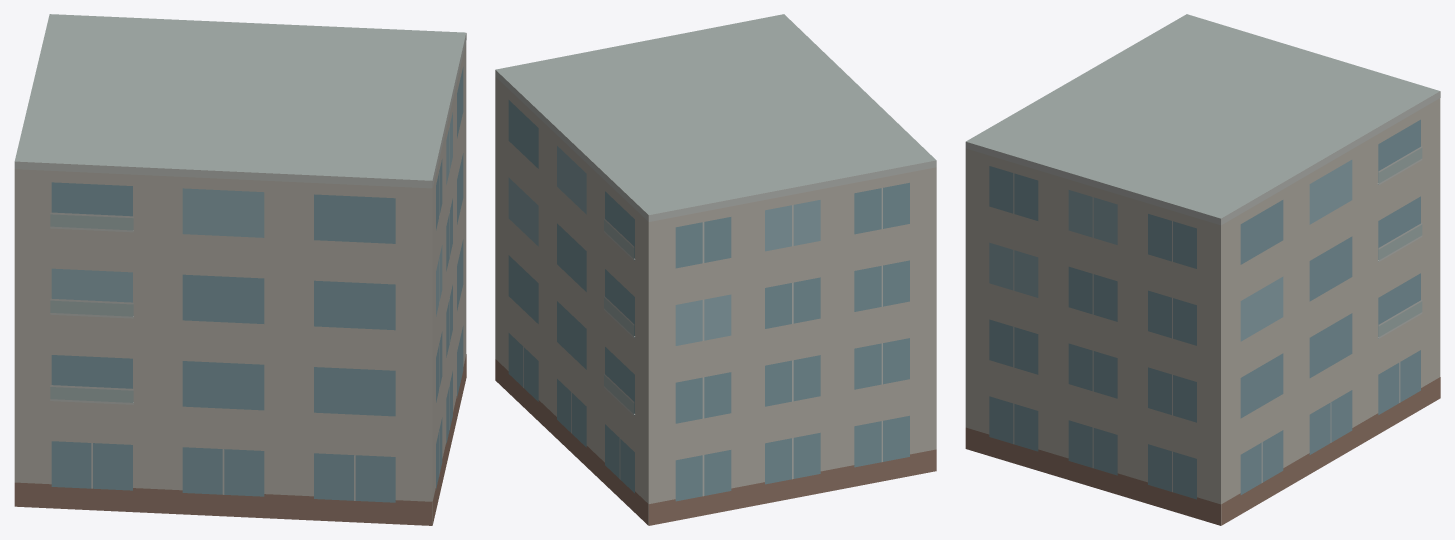
The model's file is survey-upis-32616047.glb.
3 renders of one model, left to right at view 1: azimuth 30°, elevation 25°; view 2: azimuth 150°, elevation 25°; view 3: azimuth 270°, elevation 25°, orthographic. The views are drawn at different scales.
Visible parts, largest first — view 1: survey-upis-32616047.tmp; view 2: survey-upis-32616047.tmp; view 3: survey-upis-32616047.tmp.
Boxes of the visible parts, x1=… form: survey-upis-32616047.tmp: x1=14, y1=14, x2=466, y2=525; survey-upis-32616047.tmp: x1=495, y1=14, x2=936, y2=525; survey-upis-32616047.tmp: x1=965, y1=14, x2=1440, y2=525.
Size of the model in its own units: 15.79 by 11.05 by 15.48.
